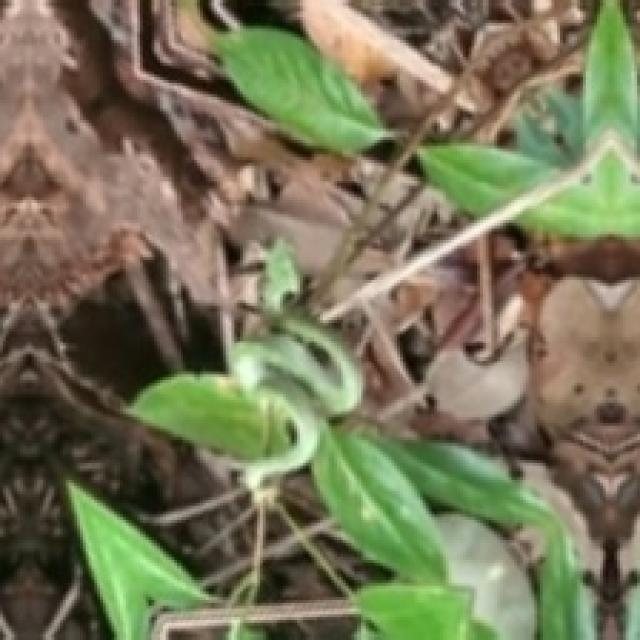north ph temple pitviper: (230, 239, 362, 483)
